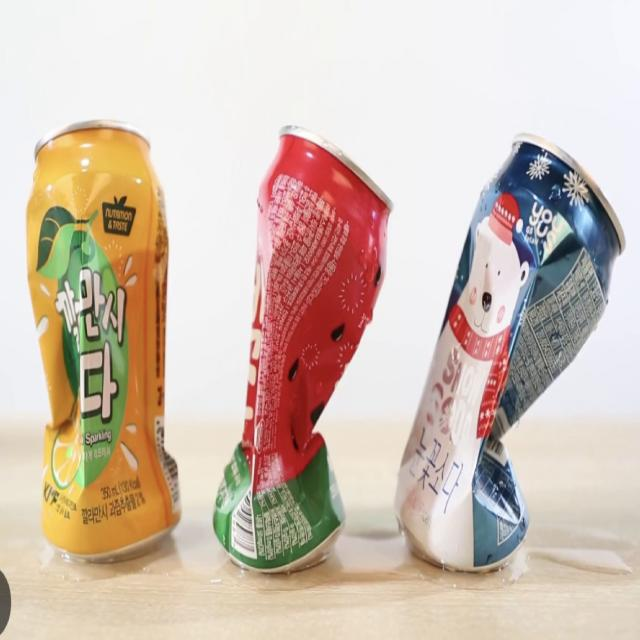recyclable: (389, 68, 629, 592), (195, 88, 398, 590), (20, 103, 190, 579)
